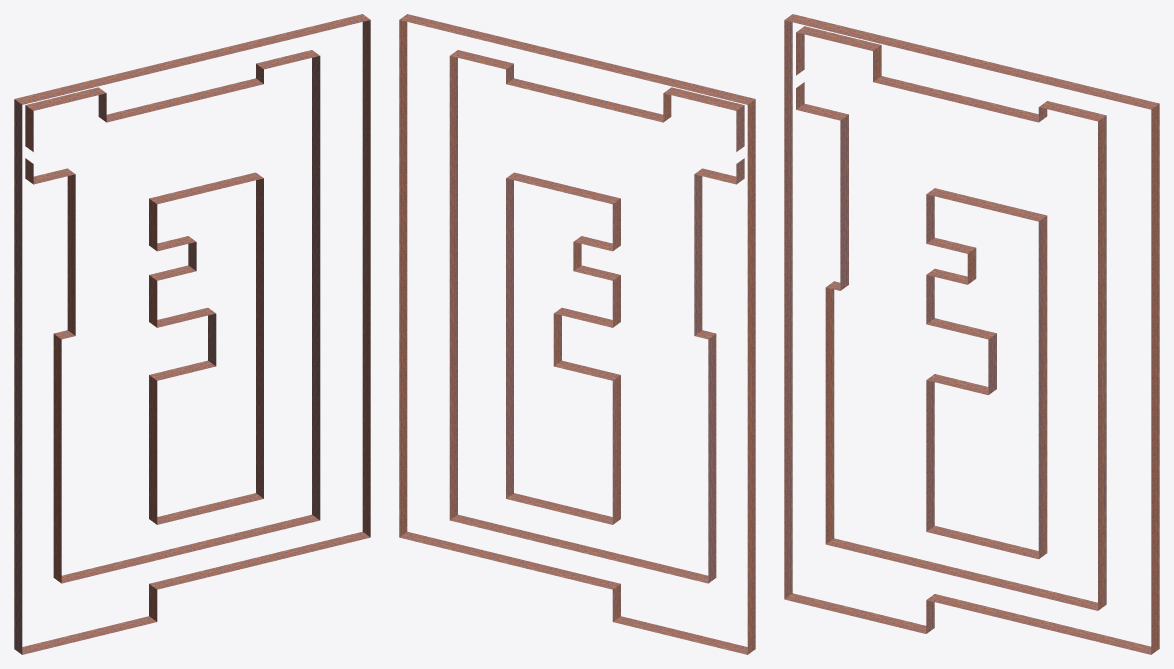
Rendered from output_walls.obj.
3 views of the same model, side by side, from view 1: azimuth 30°, elevation 25°; view 2: azimuth 150°, elevation 25°; view 3: azimuth 330°, elevation 25° (orthographic). The views are drawn at different scales.
Visible parts, largest first — view 1: wall_0, wall_1, wall_5, wall_16, wall_9, wall_12, wall_28, wall_29, wall_7, wall_19, wall_14, wall_30 (+3 smaller); view 2: wall_0, wall_1, wall_5, wall_16, wall_9, wall_12, wall_28, wall_29, wall_7, wall_19, wall_14, wall_30 (+3 smaller); view 3: wall_0, wall_1, wall_5, wall_9, wall_16, wall_12, wall_28, wall_29, wall_7, wall_19, wall_14, wall_30 (+4 smaller).
Part boxes in pixels (left/top/right/bottom): wall_0: left=14, top=99, right=22, bottom=654; wall_1: left=362, top=20, right=370, bottom=536; wall_5: left=312, top=56, right=320, bottom=519; wall_16: left=14, top=14, right=370, bottom=104; wall_9: left=256, top=178, right=263, bottom=498; wall_12: left=53, top=334, right=61, bottom=583; wall_28: left=61, top=514, right=319, bottom=583; wall_29: left=149, top=531, right=370, bottom=589; wall_7: left=67, top=174, right=75, bottom=335; wall_19: left=106, top=78, right=263, bottom=122; wall_14: left=149, top=375, right=157, bottom=524; wall_30: left=22, top=616, right=156, bottom=654; wall_0: left=747, top=99, right=755, bottom=654; wall_1: left=399, top=20, right=407, bottom=536; wall_5: left=449, top=56, right=457, bottom=519; wall_16: left=399, top=14, right=755, bottom=104; wall_9: left=506, top=178, right=513, bottom=498; wall_12: left=708, top=334, right=716, bottom=583; wall_28: left=450, top=514, right=708, bottom=583; wall_29: left=399, top=531, right=620, bottom=589; wall_7: left=694, top=174, right=702, bottom=335; wall_19: left=506, top=78, right=663, bottom=122; wall_14: left=612, top=375, right=620, bottom=524; wall_30: left=613, top=616, right=747, bottom=654; wall_0: left=784, top=20, right=792, bottom=598; wall_1: left=1151, top=104, right=1159, bottom=654; wall_5: left=1098, top=115, right=1106, bottom=610; wall_9: left=1038, top=216, right=1047, bottom=558; wall_16: left=784, top=14, right=1159, bottom=109; wall_12: left=825, top=287, right=834, bottom=543; wall_28: left=826, top=538, right=1097, bottom=610; wall_29: left=927, top=594, right=1151, bottom=654; wall_7: left=840, top=114, right=848, bottom=290; wall_19: left=873, top=76, right=1038, bottom=122; wall_14: left=926, top=380, right=934, bottom=531; wall_30: left=784, top=593, right=926, bottom=633.
Size of the model in its own units: 0.5933 by 0.8947 by 0.0239.
